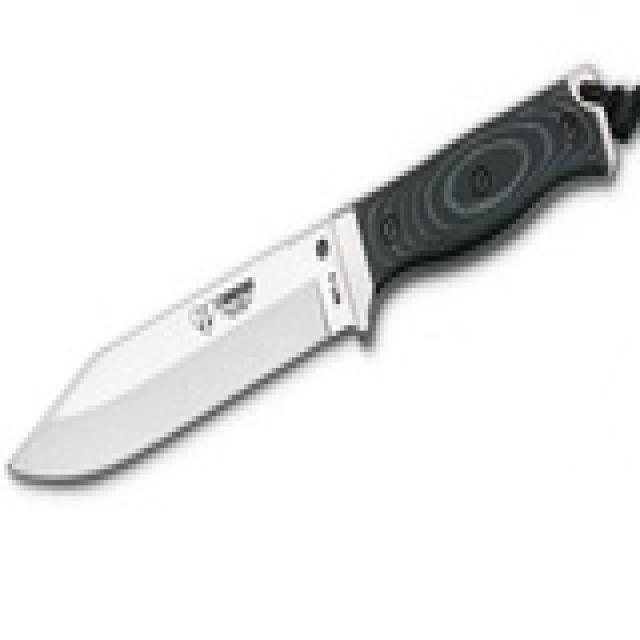Knife: (4, 49, 632, 517)
